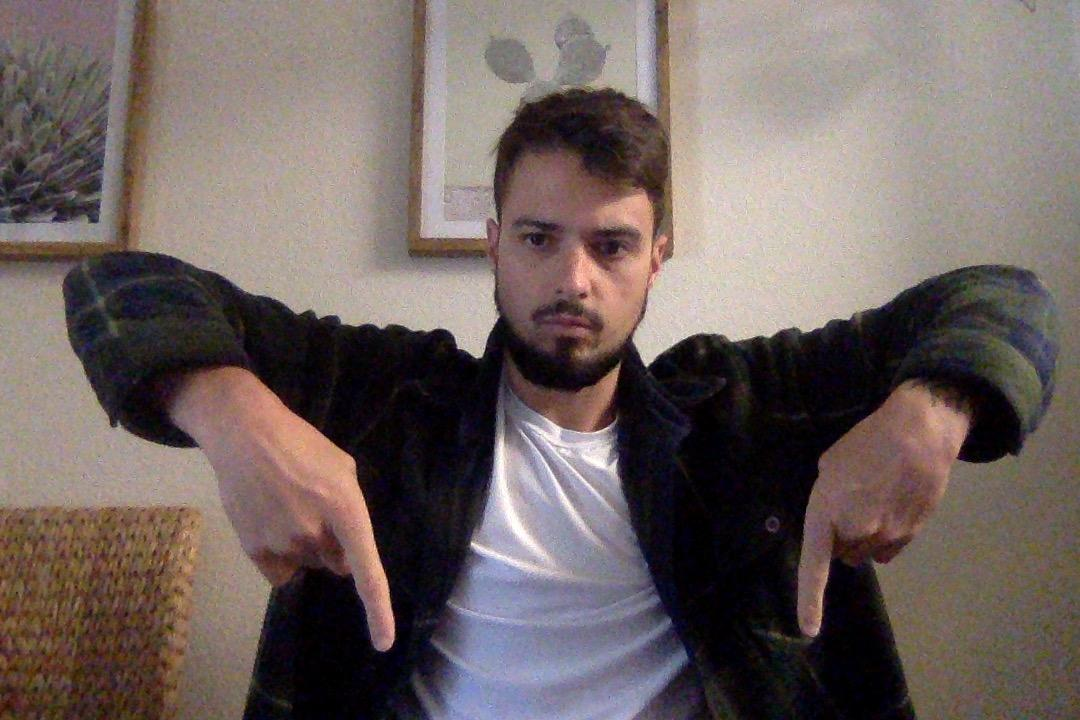Point-Down: (177, 378, 405, 667), (788, 386, 967, 643)
